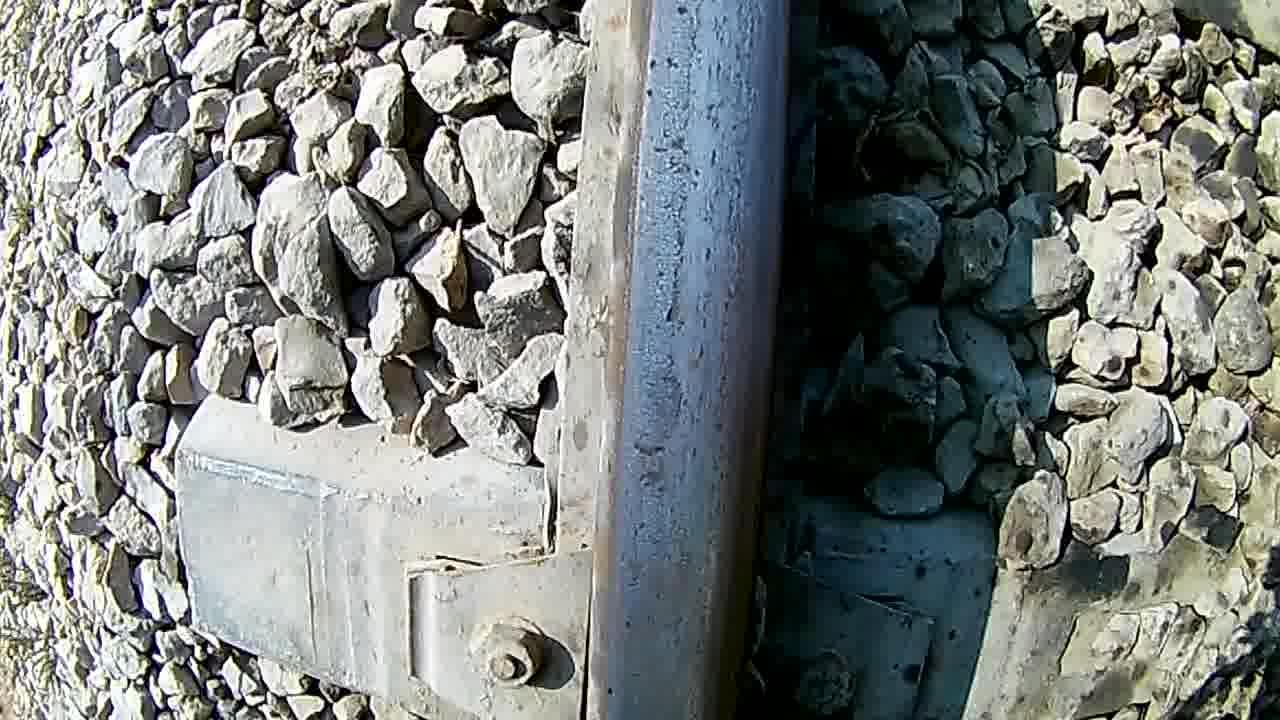crack: (598, 0, 782, 715)
